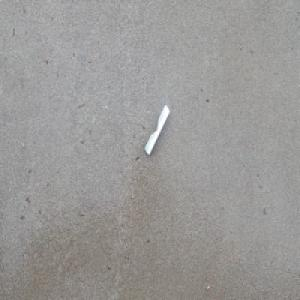ClampPart: (143, 103, 169, 156)
